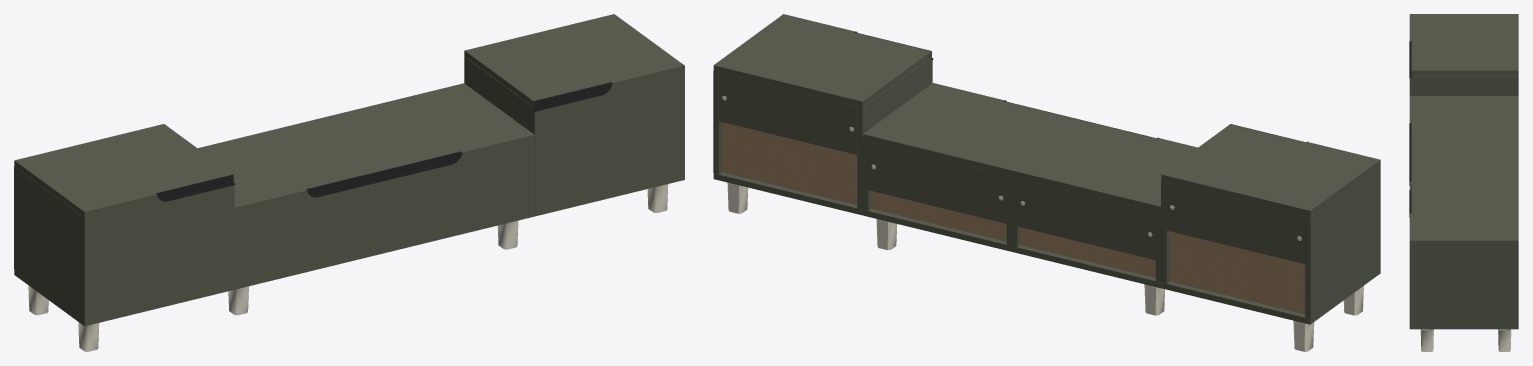
The picture shows the model from 3 angles, left to right: view 1: azimuth 30°, elevation 25°; view 2: azimuth 150°, elevation 25°; view 3: azimuth 270°, elevation 25°; orthographic projection. The views are drawn at different scales.
Visible parts, largest first — view 1: group_0.148, group_0.147, group_0.144, group_0.094, group_0.114, group_0.146, group_0.151, group_0.145, group_0.143, group_0.149; view 2: group_0.148, group_0.147, group_0.144, group_0.094, group_0.150, group_0.152, group_0.015, group_0.153, group_0.114, group_0.146; view 3: group_0.147, group_0.148, group_0.094, group_0.144, group_0.146, group_0.149, group_0.143.
Boxes of the visible parts, box(x1,y1,x2,y2) form: group_0.148: box(14, 124, 234, 326); group_0.147: box(464, 14, 684, 216); group_0.144: box(314, 83, 534, 252); group_0.094: box(198, 120, 384, 289); group_0.114: box(28, 285, 248, 351); group_0.146: box(497, 184, 668, 249); group_0.151: box(533, 82, 612, 111); group_0.145: box(383, 151, 462, 180); group_0.143: box(305, 170, 385, 197); group_0.149: box(155, 174, 235, 201); group_0.148: box(1161, 124, 1380, 324); group_0.147: box(713, 14, 932, 215); group_0.144: box(862, 83, 1080, 251); group_0.094: box(1012, 120, 1197, 288); group_0.150: box(1169, 231, 1304, 314); group_0.152: box(722, 122, 856, 204); group_0.015: box(1020, 227, 1155, 277); group_0.153: box(871, 191, 1006, 241); group_0.114: box(1144, 284, 1363, 351); group_0.146: box(727, 182, 897, 250); group_0.147: box(1409, 184, 1518, 329); group_0.148: box(1409, 14, 1518, 95); group_0.094: box(1409, 96, 1518, 152); group_0.144: box(1409, 152, 1518, 190); group_0.146: box(1420, 329, 1511, 351); group_0.149: box(1409, 41, 1411, 78); group_0.143: box(1409, 123, 1411, 159).
Size of the model in its own units: 1.92 by 0.4528 by 0.391.
6 materials, 1 textured.
